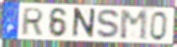0: (149, 10, 169, 42)
6: (47, 7, 70, 39)
M: (119, 10, 149, 42)
N: (70, 6, 98, 40)
R: (19, 7, 45, 36)
S: (95, 8, 122, 41)
